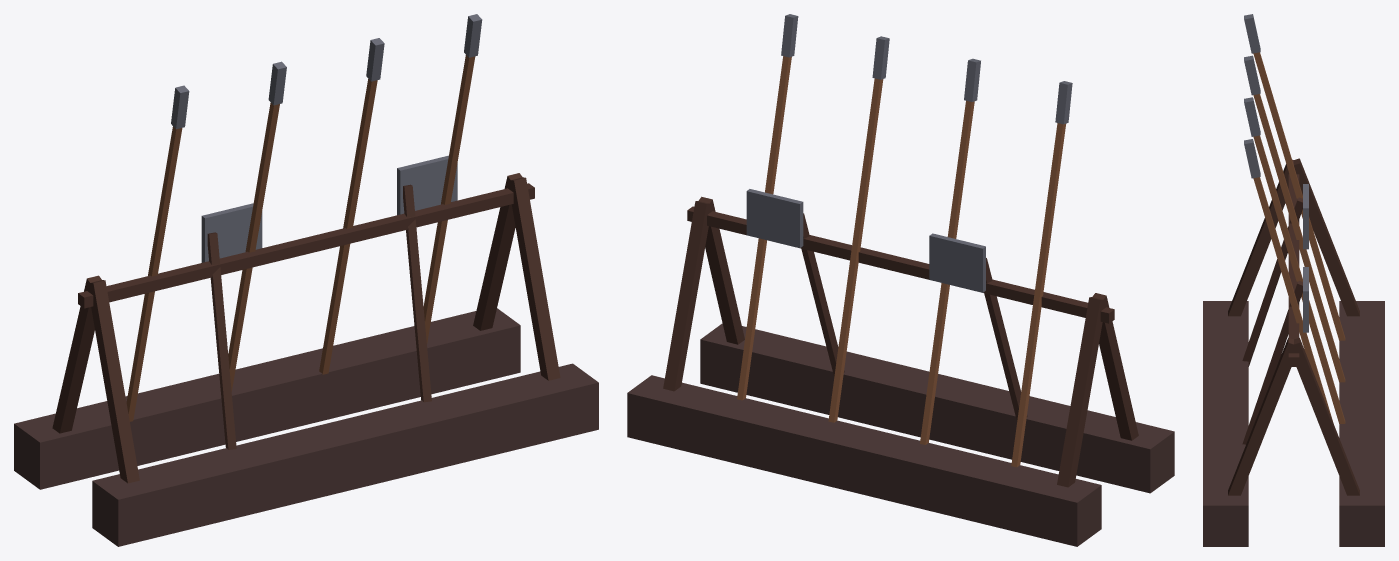
File: arms_rack.glb
The picture shows the model from 3 angles, left to right: view 1: azimuth 30°, elevation 25°; view 2: azimuth 150°, elevation 25°; view 3: azimuth 270°, elevation 25°; orthographic projection. The views are drawn at different scales.
Visible parts, largest first — view 1: a-1; view 2: a-1; view 3: a-1.
Boxes of the visible parts, x1,y1,x2,y2 form: a-1: [14, 14, 598, 546]; a-1: [627, 14, 1174, 546]; a-1: [1203, 14, 1384, 546].
Bounding box in the file's own units: 3.2 × 2.67 × 1.2.
